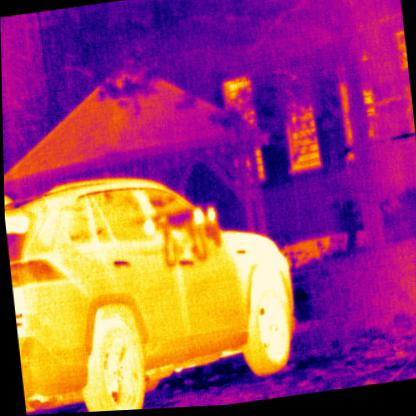drone: (140, 206, 220, 272)
